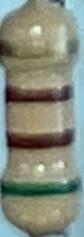Black: (5, 84, 74, 103)
Brown: (8, 128, 74, 149)
Green: (2, 177, 82, 196)
Side-Silver: (1, 35, 80, 56)
